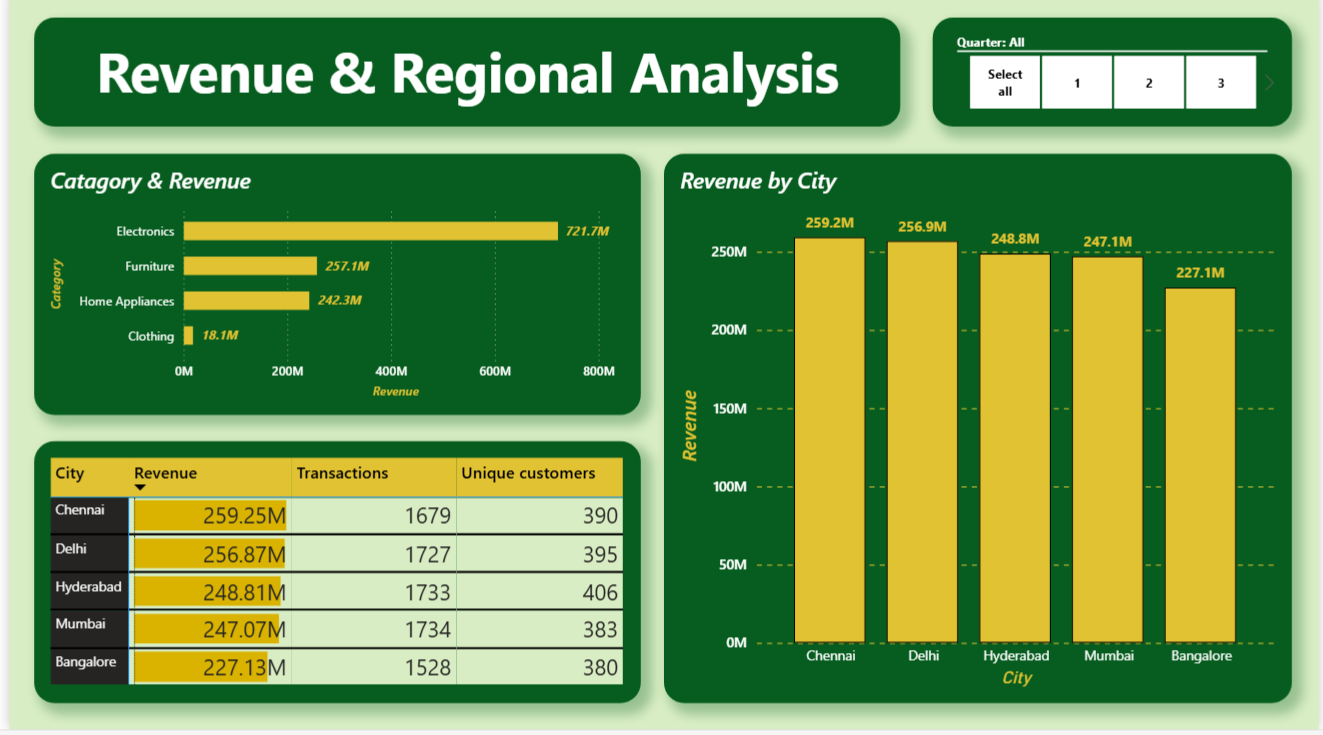

The dashboard page shown, as its layout file describes it:
{"tool":"powerbi","page":{"name":" Revenue analysis","canvas":[1280,720],"ordinal":1},"visuals":[{"type":"textbox","box":[24.7,24.7,846.7,106.6],"z":0},{"type":"slicer","fields":{"Values":["retail_silver.quarter"]},"box":[902.6,24.7,351.2,106.6],"z":1000},{"type":"columnChart","title":"Revenue by City","fields":{"Category":["retail_silver.city"],"Y":["retail_silver.Total Revenue"]},"box":[639.9,157.4,613.9,537.1],"z":2000},{"type":"barChart","title":"Catagory & Revenue ","fields":{"Category":["retail_silver.category"],"Y":["retail_silver.Total Revenue"]},"box":[24.7,157.4,593.1,254.9],"z":3000},{"type":"pivotTable","fields":{"Rows":["gold_revenue_by_city.city"],"Values":["Sum(gold_revenue_by_city.total_revenue)","Sum(gold_revenue_by_city.transaction_count)","Sum(gold_revenue_by_city.unique_customers)"]},"box":[24.7,438.3,593.1,256.2],"z":4000}]}

Visuals, with their boxes in screenshot pixels (x1, y1, x2, y2), scaled from the page's 1280x720 canvas onto the 1323x735 screenshot:
textbox: (26,25,901,134)
slicer - retail_silver.quarter: (933,25,1296,134)
"Revenue by City" columnChart: (661,161,1296,709)
"Catagory & Revenue " barChart: (26,161,639,421)
pivotTable - gold_revenue_by_city.city x Sum(gold_revenue_by_city.total_revenue): (26,447,639,709)
